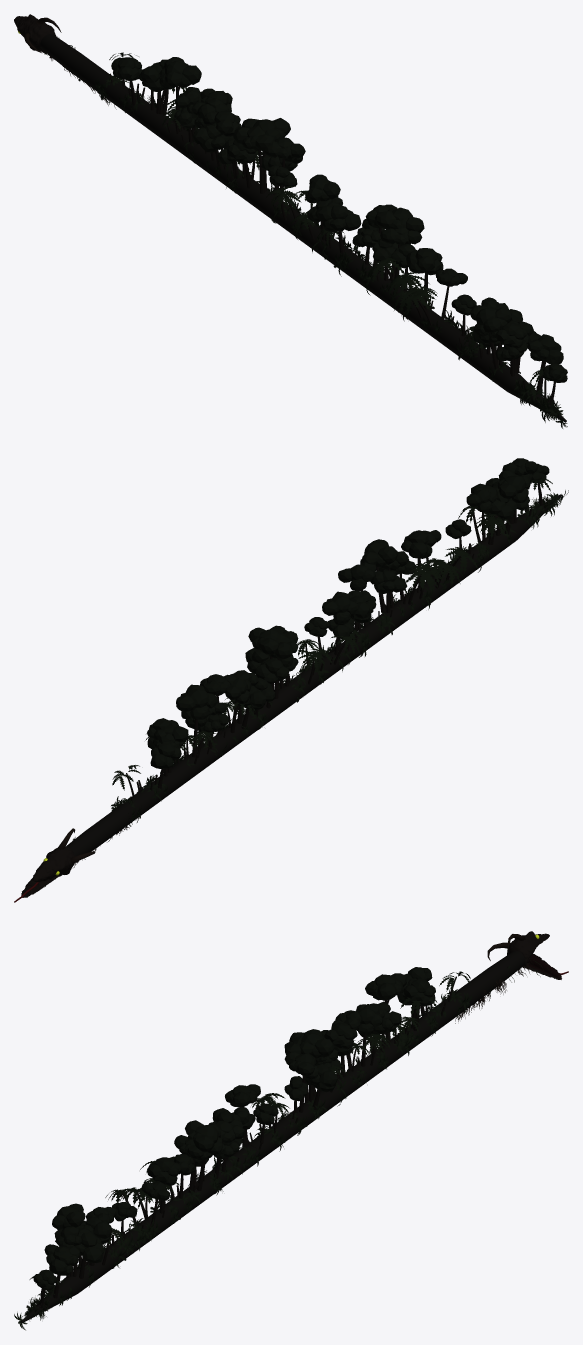
The model's file is Serpiente.glb.
The picture shows the model from 3 angles, top to bottom: view 1: azimuth 30°, elevation 25°; view 2: azimuth 150°, elevation 25°; view 3: azimuth 330°, elevation 25°; orthographic projection. The views are drawn at different scales.
Parts seen in each view (by area): view 1: Lomo11, Lomo22, Lomo14, Lomo17, Lomo18, Lomo10, Lomo09, Lomo07, Lomo16, Lomo15, Lomo23, Lomo08 (+14 smaller); view 2: Lomo21, Lomo07, Lomo16, Lomo10, Lomo13, Lomo18, Cabeza, Lomo08, Lomo17, Lomo09, Lomo14, Lomo11 (+10 smaller); view 3: Lomo11, Lomo22, Lomo07, Lomo17, Lomo08, Lomo09, Lomo14, Lomo18, Lomo06, Lomo16, Cabeza, Lomo21 (+12 smaller).
Part boxes in pixels (box(x1,y1,x2,y2)): Lomo11: box(242, 118, 305, 202); Lomo22: box(473, 307, 540, 381); Lomo14: box(302, 181, 361, 260); Lomo17: box(367, 217, 424, 304); Lomo18: box(387, 248, 453, 321); Lomo10: box(217, 118, 276, 193); Lomo09: box(193, 103, 241, 178); Lomo07: box(159, 57, 201, 143); Lomo16: box(356, 207, 412, 295); Lomo15: box(330, 204, 397, 276); Lomo23: box(513, 334, 563, 406); Lomo08: box(175, 88, 232, 162); Lomo21: box(458, 475, 526, 558); Lomo07: box(173, 684, 220, 765); Lomo16: box(360, 542, 407, 635); Lomo10: box(236, 628, 293, 729); Lomo13: box(299, 596, 359, 684); Lomo18: box(401, 530, 467, 609); Cabeza: box(14, 828, 95, 902); Lomo08: box(197, 674, 247, 757); Lomo17: box(370, 539, 443, 617); Lomo09: box(216, 670, 266, 743); Lomo14: box(322, 591, 371, 671); Lomo11: box(245, 625, 298, 698); Lomo11: box(284, 1035, 337, 1122); Lomo22: box(52, 1211, 104, 1287); Lomo07: box(365, 973, 411, 1055); Lomo17: box(140, 1134, 214, 1213); Lomo08: box(335, 1004, 391, 1069); Lomo09: box(321, 1017, 372, 1088); Lomo14: box(212, 1090, 264, 1170); Lomo18: box(116, 1157, 181, 1225); Lomo06: box(392, 978, 437, 1052); Lomo16: box(180, 1120, 233, 1195); Cabeza: box(487, 931, 568, 979); Lomo21: box(56, 1203, 124, 1265).
Bounding box in the file's own units: 54.98 × 80.47 × 718.
Materials: 1 (1 with a texture image).
